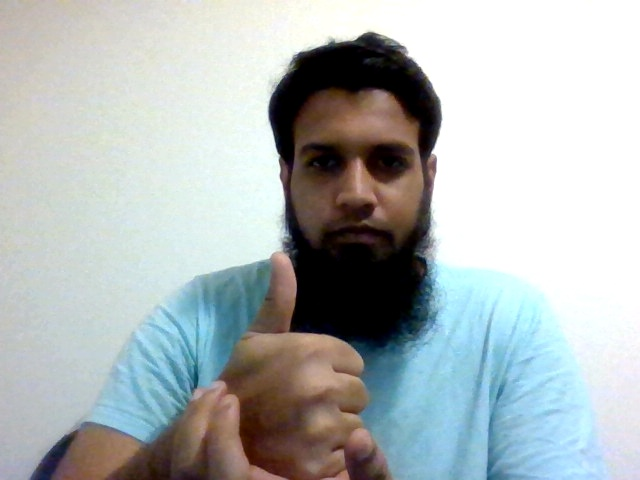help: (149, 250, 397, 480)
